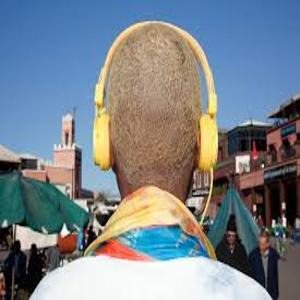Headphones: (91, 19, 219, 172)
